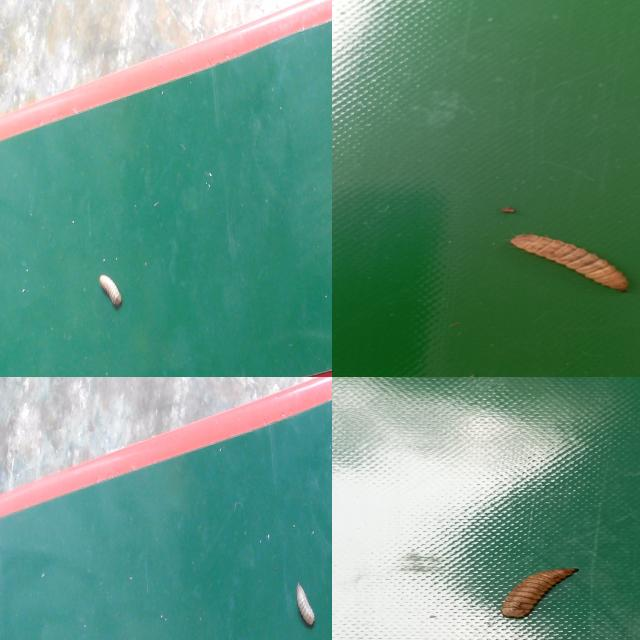Maggot: (510, 234, 631, 293), (498, 569, 577, 621), (294, 584, 317, 629), (96, 274, 123, 310)
